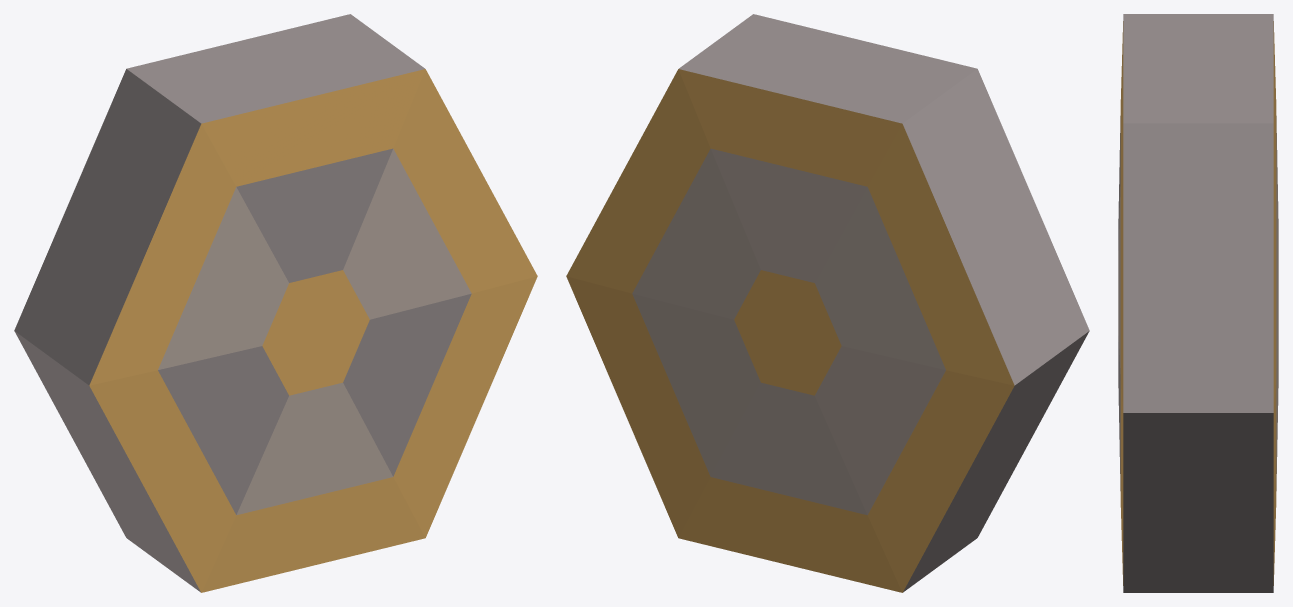
The model's file is Wheel_Low.fbx.
The picture shows the model from 3 angles, left to right: view 1: azimuth 30°, elevation 25°; view 2: azimuth 150°, elevation 25°; view 3: azimuth 270°, elevation 25°; orthographic projection.
Parts seen in each view (by area): view 1: SM_Wheel_Low; view 2: SM_Wheel_Low; view 3: SM_Wheel_Low.
Part boxes in pixels (x1,y1,x2,y2): SM_Wheel_Low: (14,14,537,592); SM_Wheel_Low: (566,14,1089,592); SM_Wheel_Low: (1118,14,1278,592).
Bounding box in the file's own units: 200 × 62 × 200.
